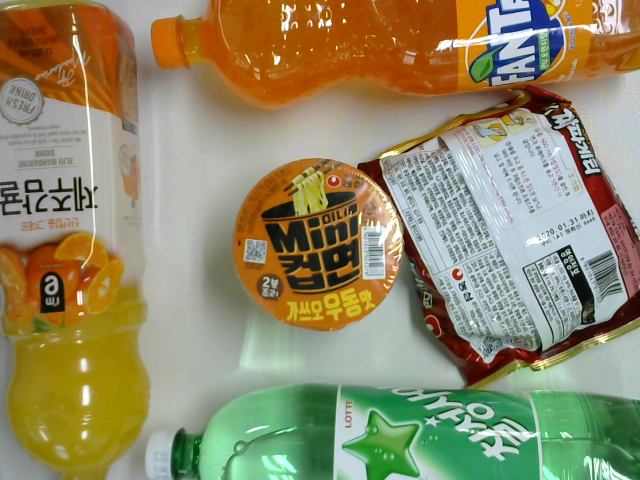Chilseong_Cider_1.5L: (147, 383, 640, 479)
Hwanta_Orange_1.5L: (152, 1, 640, 111)
Jeju_Tangerine_1.5L: (1, 1, 151, 479)
Sichuan_Chapaghetti: (357, 84, 640, 391)
Udongmini: (230, 158, 405, 333)
